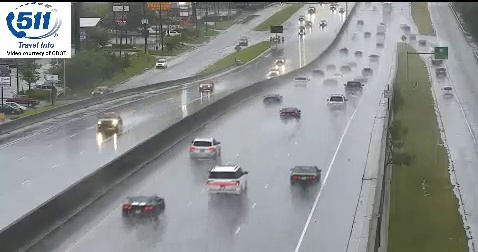car: (208, 165, 246, 194), (122, 196, 166, 218), (189, 138, 221, 160), (290, 165, 321, 184), (279, 107, 300, 121), (328, 95, 346, 110)
